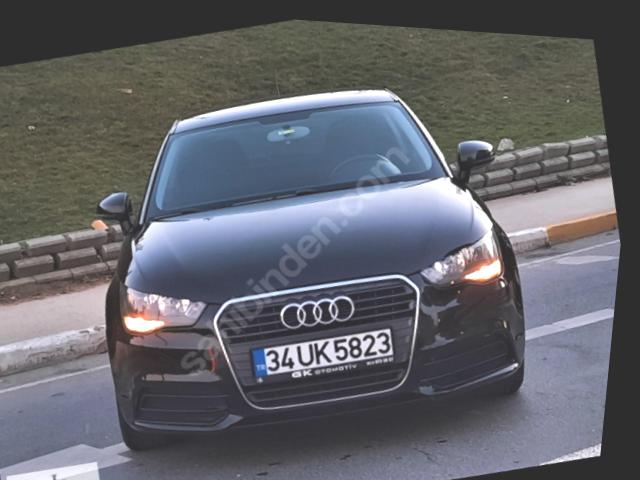plaka: (251, 327, 394, 382)
